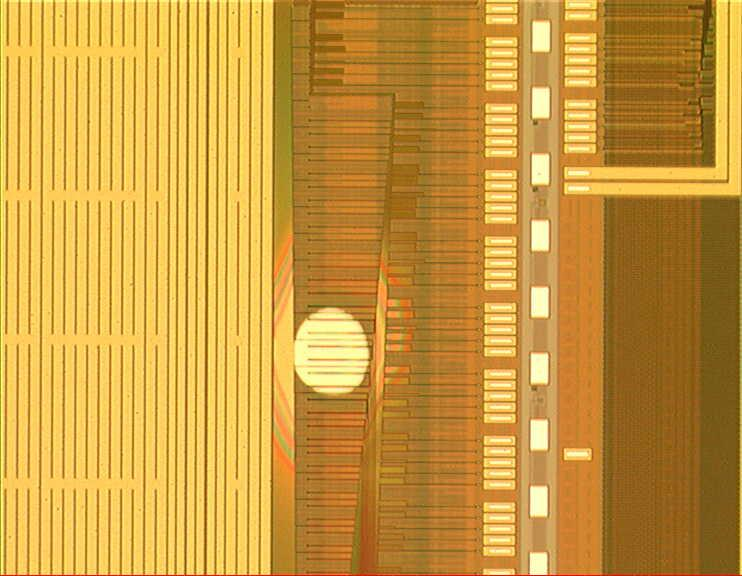BLOCK ETCH: (284, 304, 380, 400)
